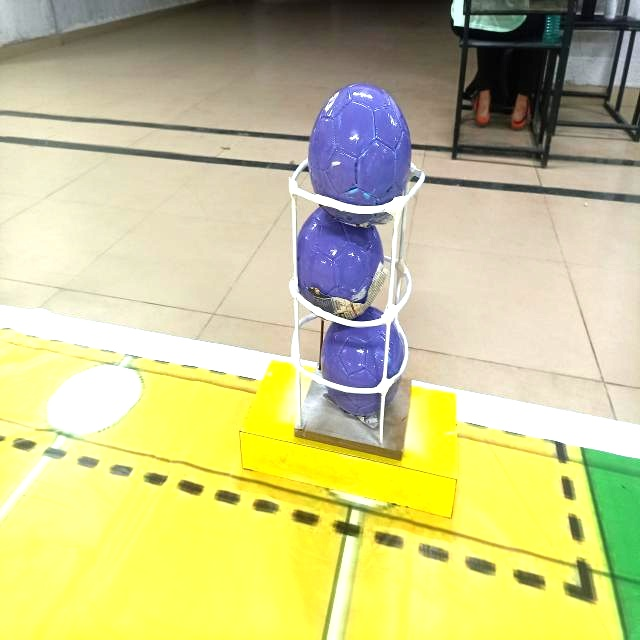purple_ball: (310, 83, 407, 215), (299, 204, 384, 300), (321, 320, 397, 411)
silo: (288, 146, 424, 456)
